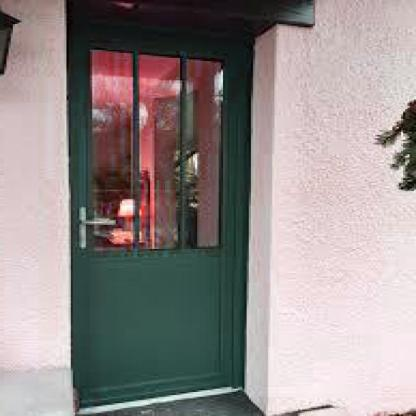door: (43, 5, 275, 415)
